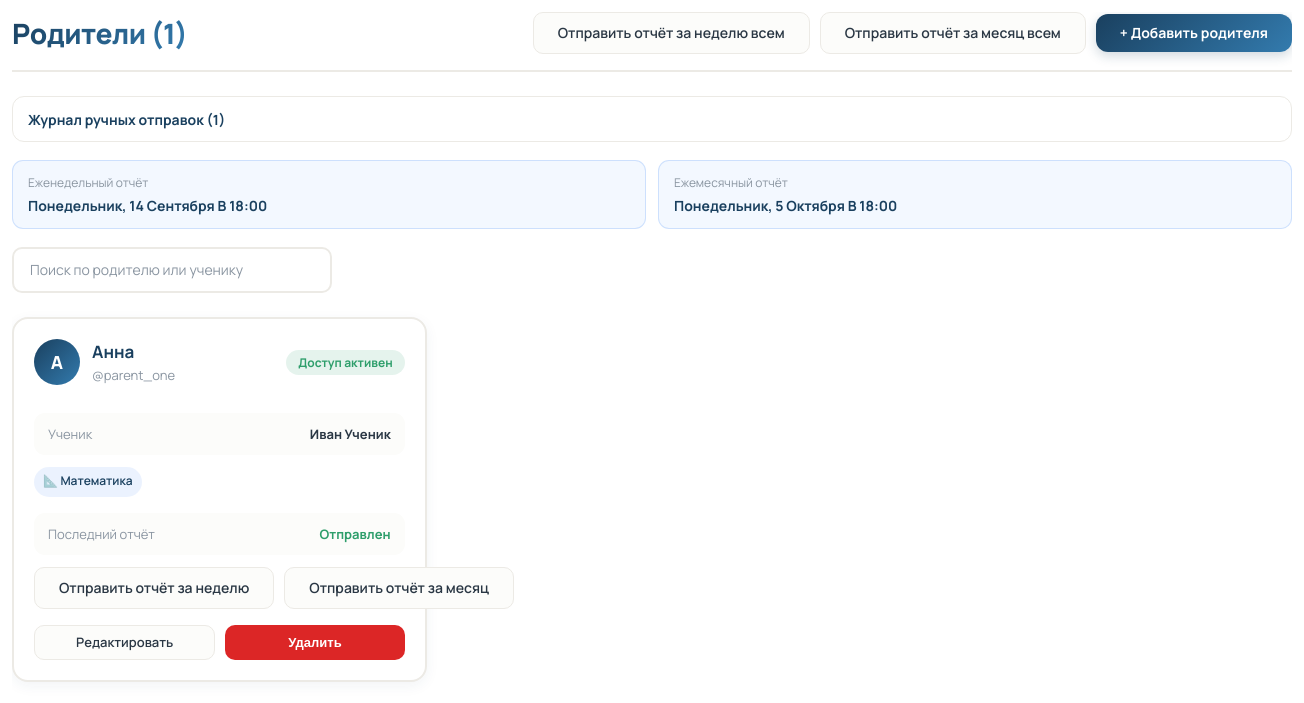
менеджер видит автора и результат ручной отправки в журнале
This screenshot has width=1304, height=703.
Click the heading "Журнал ручных отправок (1)".
click(127, 119)  # box [28,110,225,128]
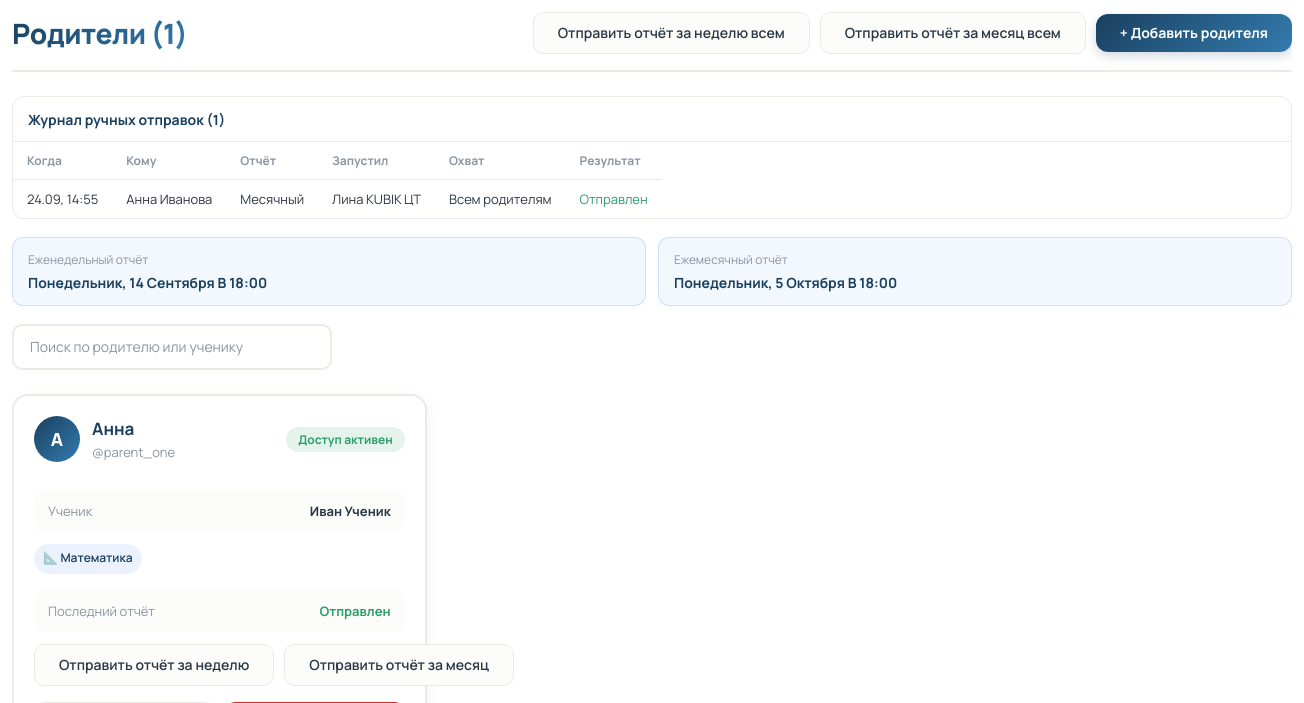
Check: the text "Лина KUBIK ЦТ" is shown, box [318,180,435,218]
Check: the text "Всем родителям" is shown, box [435,180,566,218]
